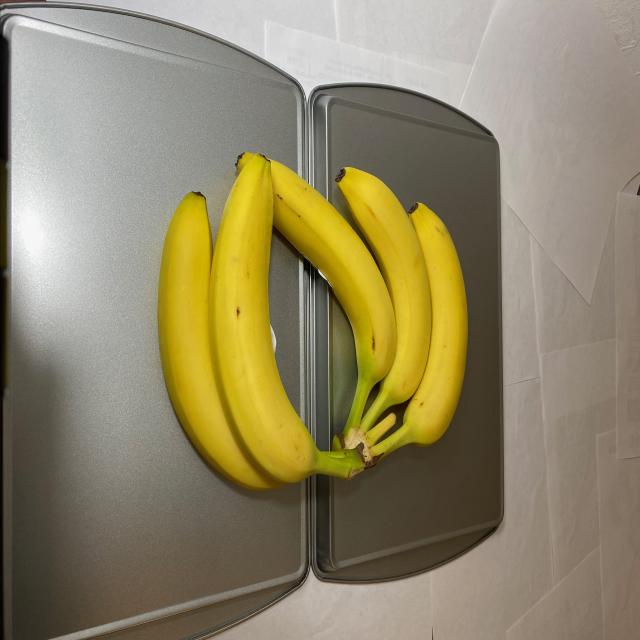banana: (155, 155, 468, 499)
